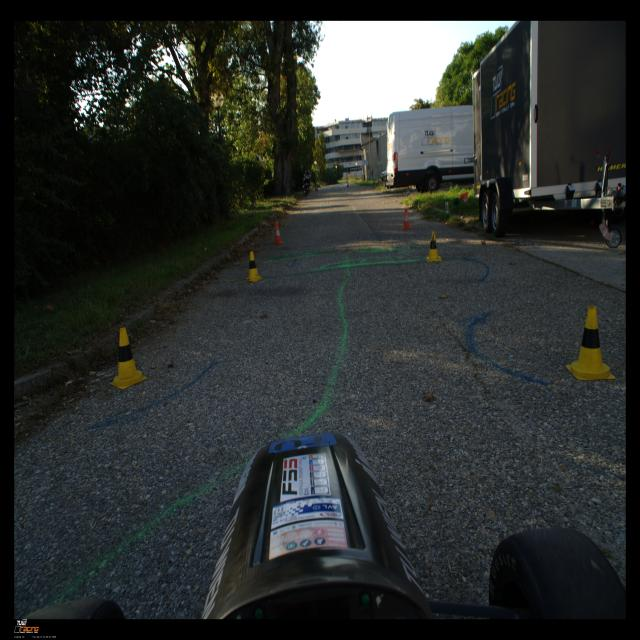orange_cone: (272, 222, 284, 245), (402, 208, 411, 230)
yellow_cone: (566, 306, 616, 380), (110, 327, 147, 389), (244, 251, 263, 282), (426, 231, 442, 261)
